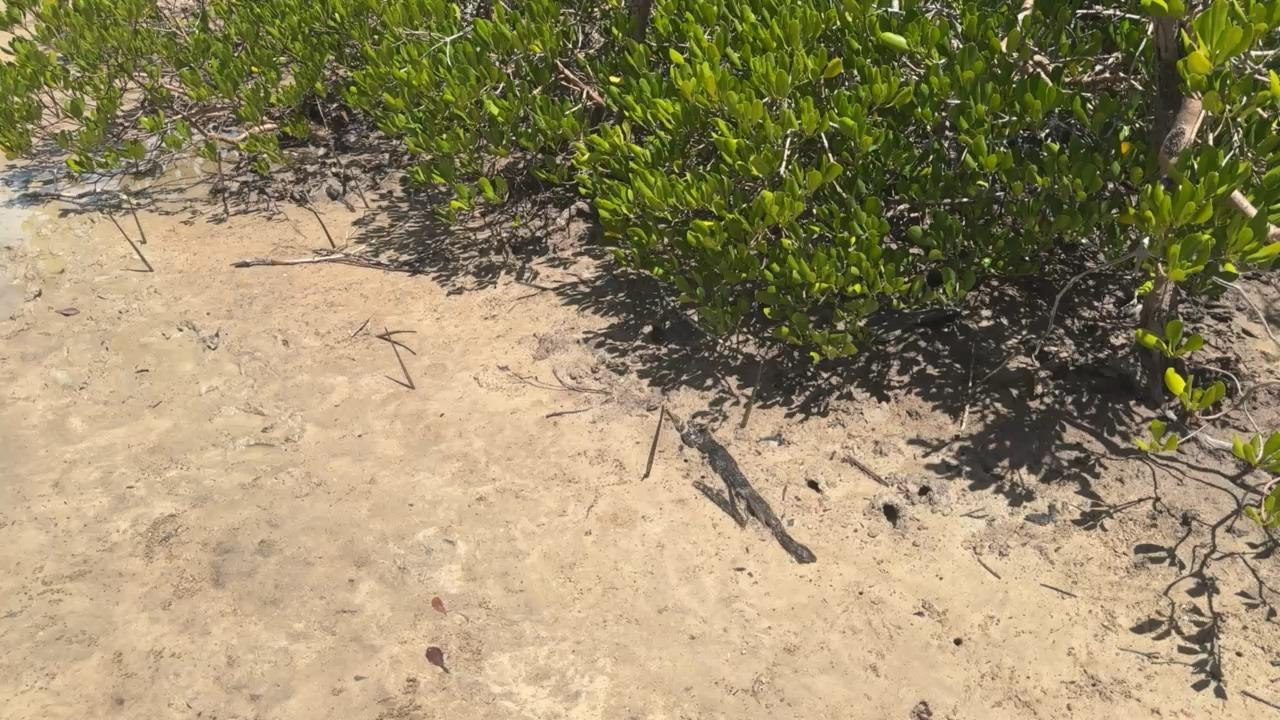Tree: (106, 209, 154, 273), (384, 325, 416, 390), (643, 404, 664, 478), (740, 359, 762, 428), (308, 204, 338, 250), (124, 190, 148, 244), (350, 168, 370, 208), (217, 151, 229, 216)
